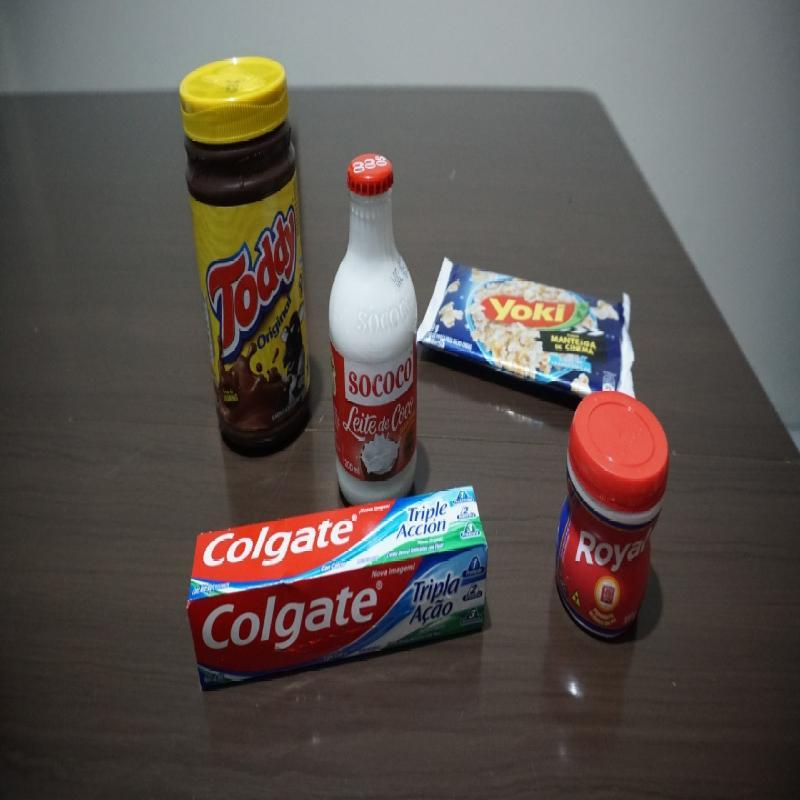Chocolate Powder: (178, 52, 315, 459)
Coconut Milk: (327, 151, 421, 506)
Popcorn: (419, 256, 633, 407)
Toothpaste: (184, 482, 490, 691)
Yeast: (555, 389, 671, 647)
